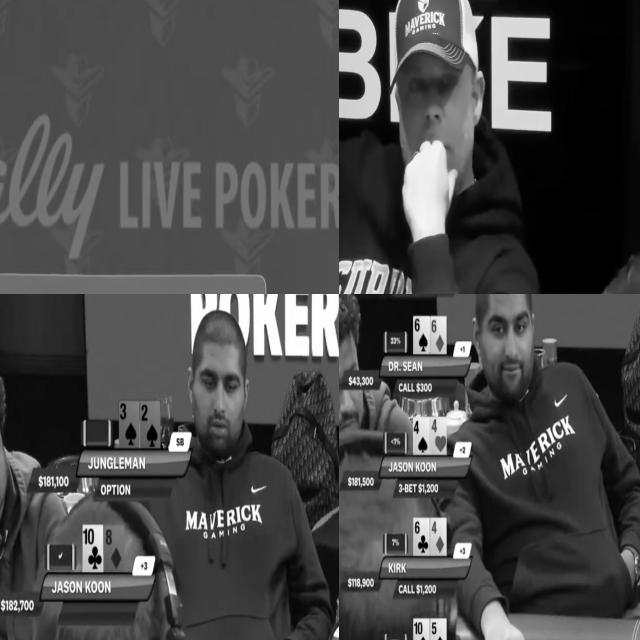10S: (412, 618, 430, 640)
2S: (142, 401, 158, 447)
3S: (120, 402, 137, 448)
4D: (430, 517, 447, 555)
4H: (429, 418, 446, 455)
4S: (413, 416, 429, 452)
5S: (430, 619, 447, 640)
6C: (413, 518, 430, 556)
6D: (431, 317, 447, 352)
6S: (414, 317, 430, 352)
8D: (105, 527, 123, 572)
